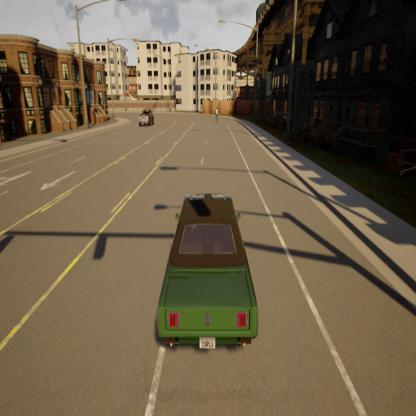Cars: (146, 176, 266, 368), (135, 105, 156, 129)
